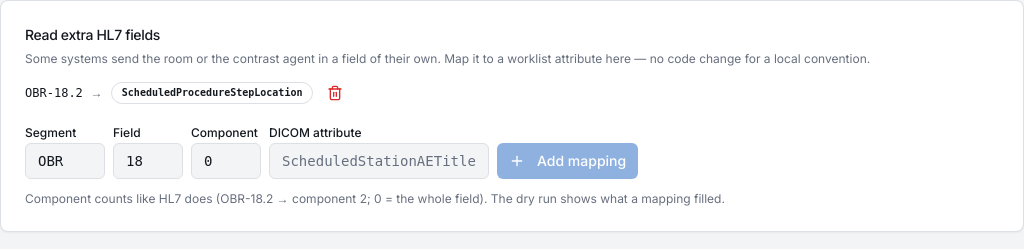
Hl7MappingCard › keeps the button disabled while the input is incomplete
Expected: the list with test id "hl7-mapping-list" is shown, x1=25 y1=79 x2=350 y2=107
Expected: the button "Add mapping" is disabled, x1=497 y1=143 x2=638 y2=179
Step 1. Type "PatientID" into the field labelled "DICOM attribute" → (379, 161), box x1=269 y1=143 x2=489 y2=179
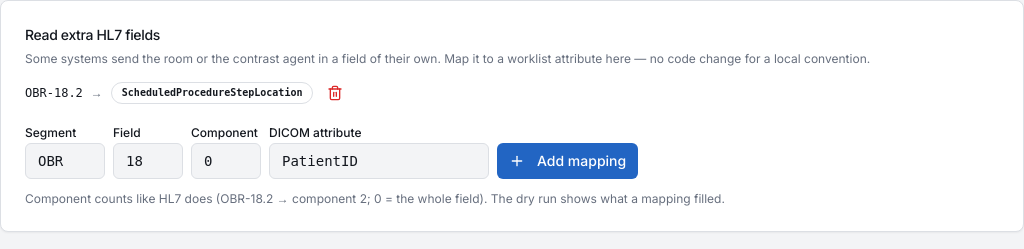
Result: the button "Add mapping" is enabled at x1=497 y1=143 x2=638 y2=179
